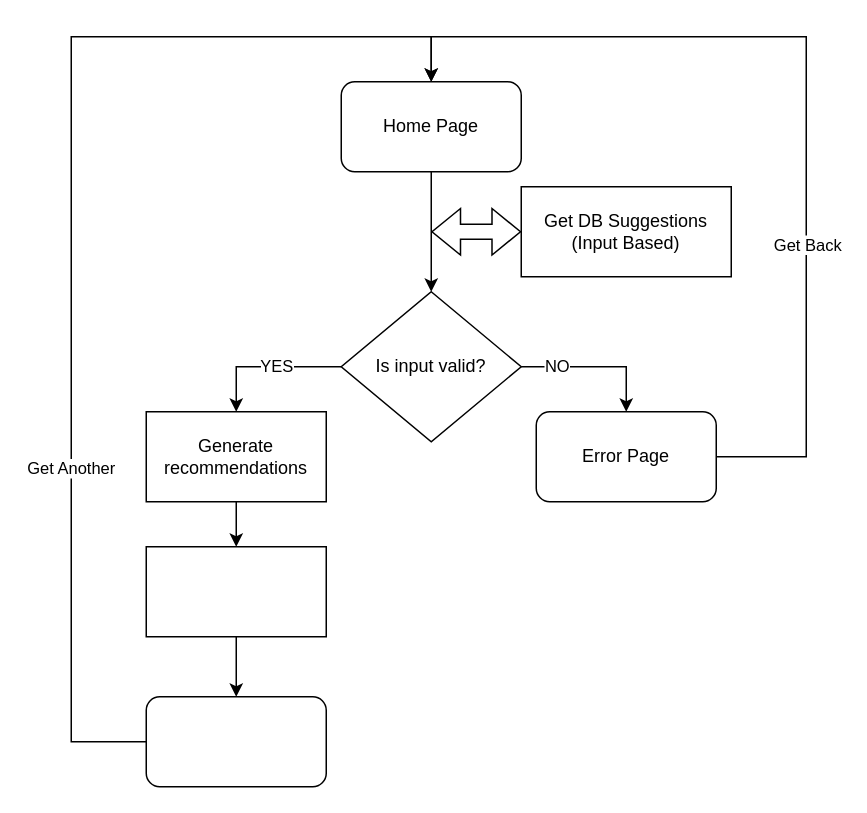
The diagram is 867 pixels wide and 813 high, and some of its shapes have lost their labels. Each missing label, with the box of its shape:
Recommendations Page: (145, 695, 326, 787)
Retrieve anime metadata from DB: (145, 545, 326, 637)
